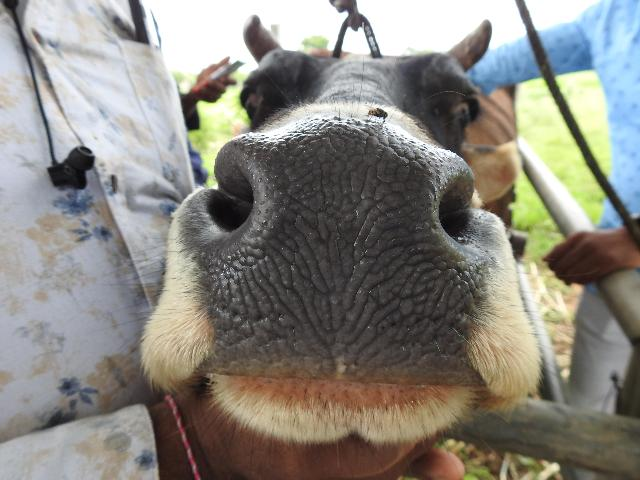Muzzle: (244, 131, 436, 365)
